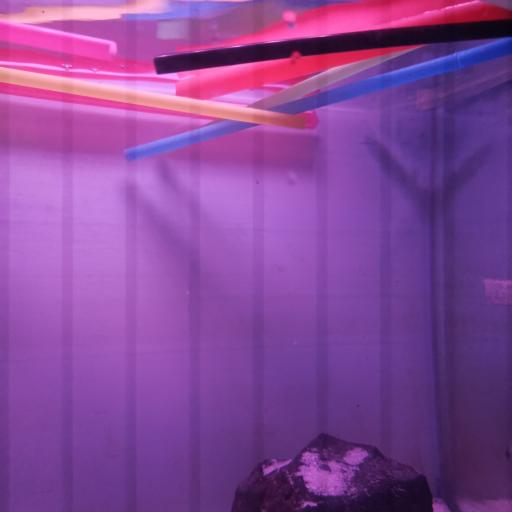plastic_straw: (124, 36, 512, 163), (175, 0, 512, 100), (153, 15, 512, 74), (0, 66, 306, 130), (0, 83, 319, 131), (246, 48, 420, 110), (0, 47, 178, 83), (0, 20, 118, 63)
